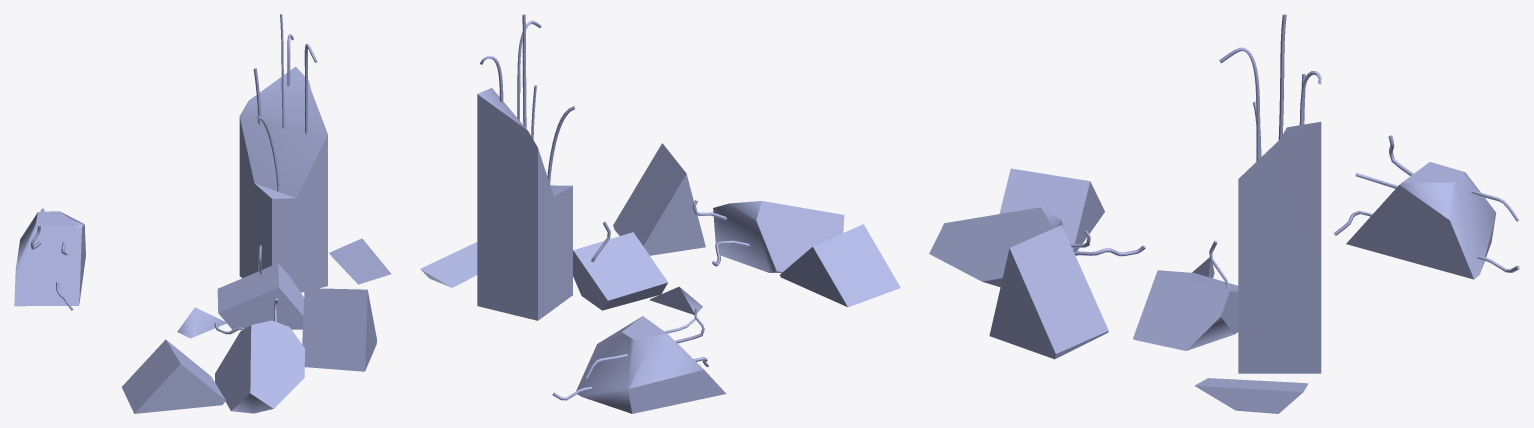
File: ConcreteStackCell_00.fbx
3 renders of one model, left to right at view 1: azimuth 30°, elevation 25°; view 2: azimuth 150°, elevation 25°; view 3: azimuth 270°, elevation 25°, orthographic. The views are drawn at different scales.
Parts seen in each view (by area): view 1: Concrete_Stack_Cell_00_LOD0; view 2: Concrete_Stack_Cell_00_LOD0; view 3: Concrete_Stack_Cell_00_LOD0.
Part boxes in pixels (left/top/right/bottom): Concrete_Stack_Cell_00_LOD0: left=14, top=14, right=391, bottom=413; Concrete_Stack_Cell_00_LOD0: left=420, top=14, right=900, bottom=413; Concrete_Stack_Cell_00_LOD0: left=929, top=14, right=1519, bottom=413.
Size of what is drawn, in the model's own units: 2.4 by 1.82 by 2.84.
